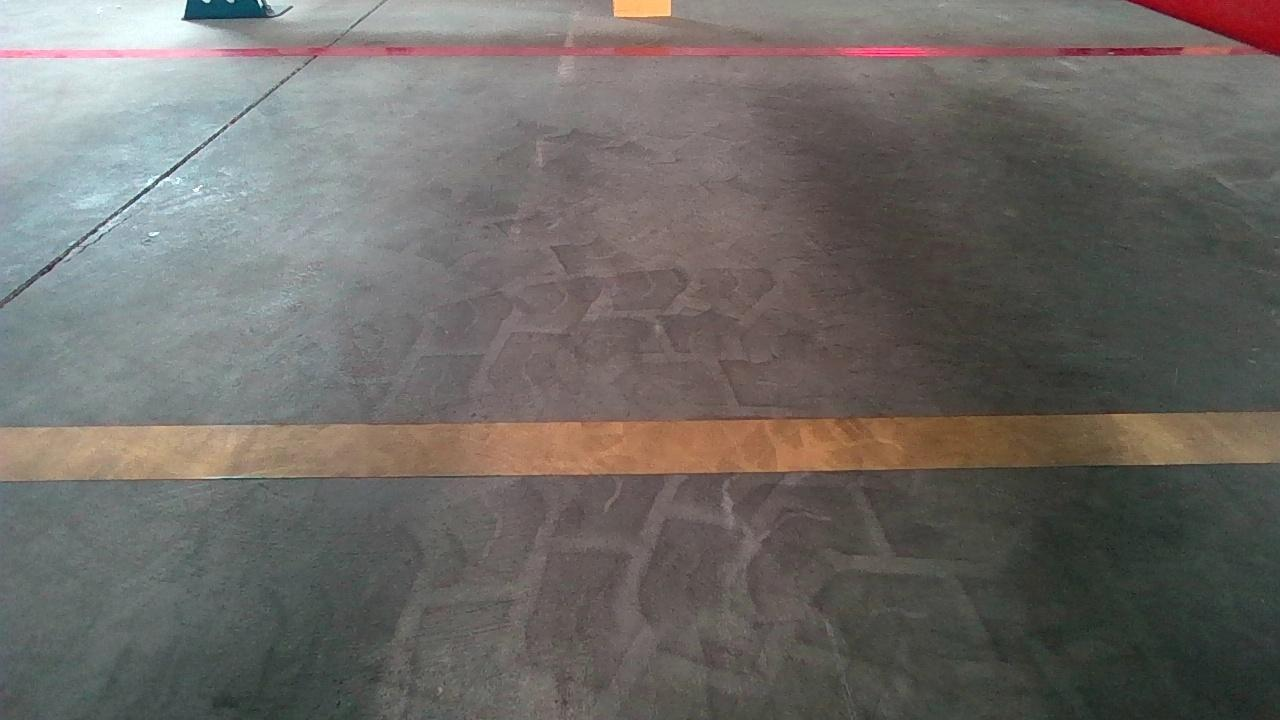red_line: (0, 43, 1272, 58)
yellow_line: (0, 410, 1280, 481)
